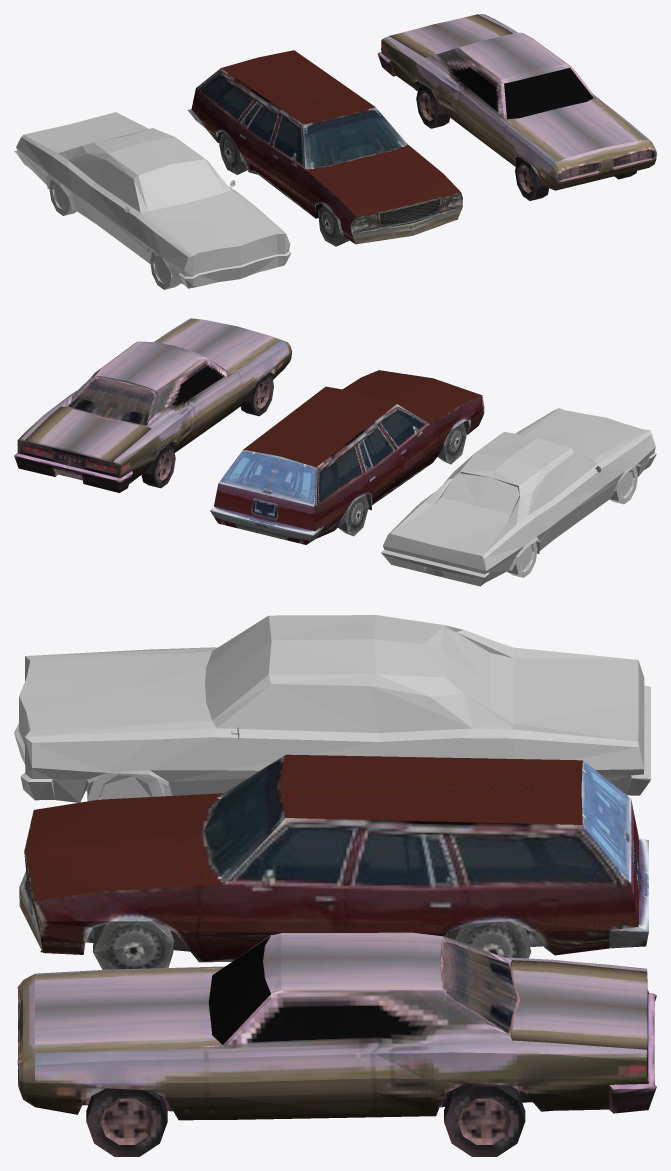
Rendered from characters.fbx.
3 views of the same model, one above another, from view 1: azimuth 30°, elevation 25°; view 2: azimuth 150°, elevation 25°; view 3: azimuth 270°, elevation 25° (orthographic). The views are drawn at different scales.
Parts seen in each view (by area): view 1: 4Wagon.Ld1, coup2.Ld1, coup66-ld1; view 2: 4Wagon.Ld1, coup66-ld1, coup2.Ld1; view 3: coup2.Ld1, 4Wagon.Ld1, coup66-ld1.
Part boxes in pixels (box(x1,y1,x2,y2)): 4Wagon.Ld1: box(187, 50, 462, 246); coup2.Ld1: box(377, 14, 656, 200); coup66-ld1: box(14, 112, 290, 289); 4Wagon.Ld1: box(210, 370, 484, 544); coup66-ld1: box(381, 408, 656, 586); coup2.Ld1: box(14, 318, 292, 492); coup2.Ld1: box(17, 932, 656, 1156); 4Wagon.Ld1: box(19, 754, 648, 969); coup66-ld1: box(14, 615, 650, 802).
Bounding box in the file's own units: 519 × 90.99 × 335.
